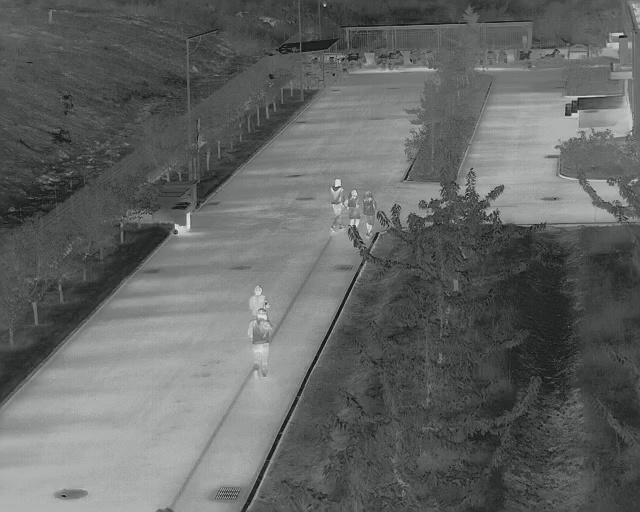person: (249, 308, 271, 378), (361, 189, 379, 239), (330, 175, 344, 236), (344, 189, 361, 229), (248, 285, 268, 313)
